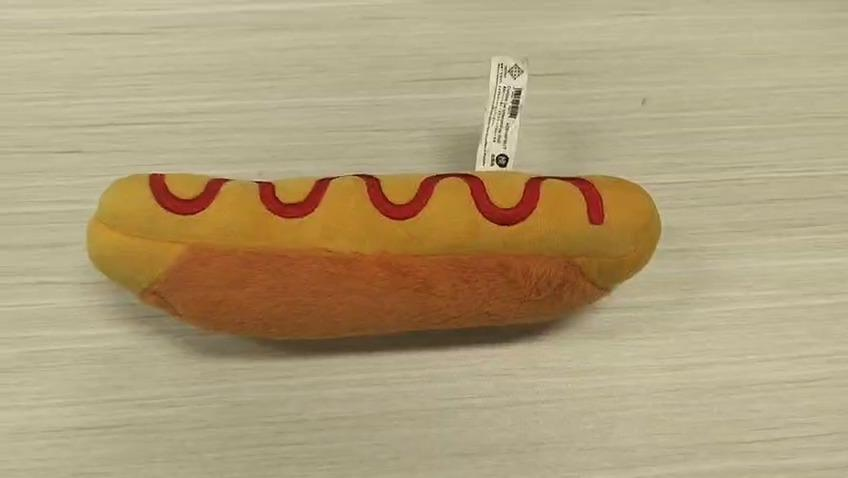hotdog: (85, 167, 662, 342)
